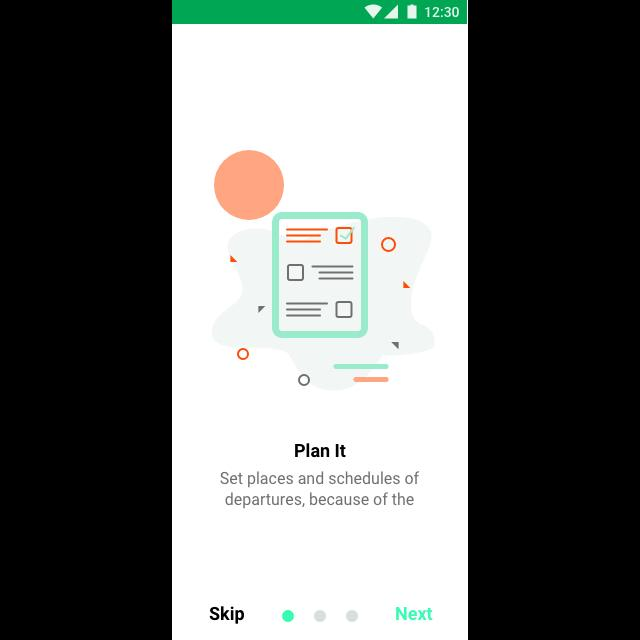image: (212, 150, 436, 390)
pageindicator: (282, 609, 358, 623)
text: (220, 470, 420, 510), (295, 442, 347, 458), (209, 606, 245, 626), (396, 607, 432, 621)
uppertaskbar: (172, 1, 468, 25)
